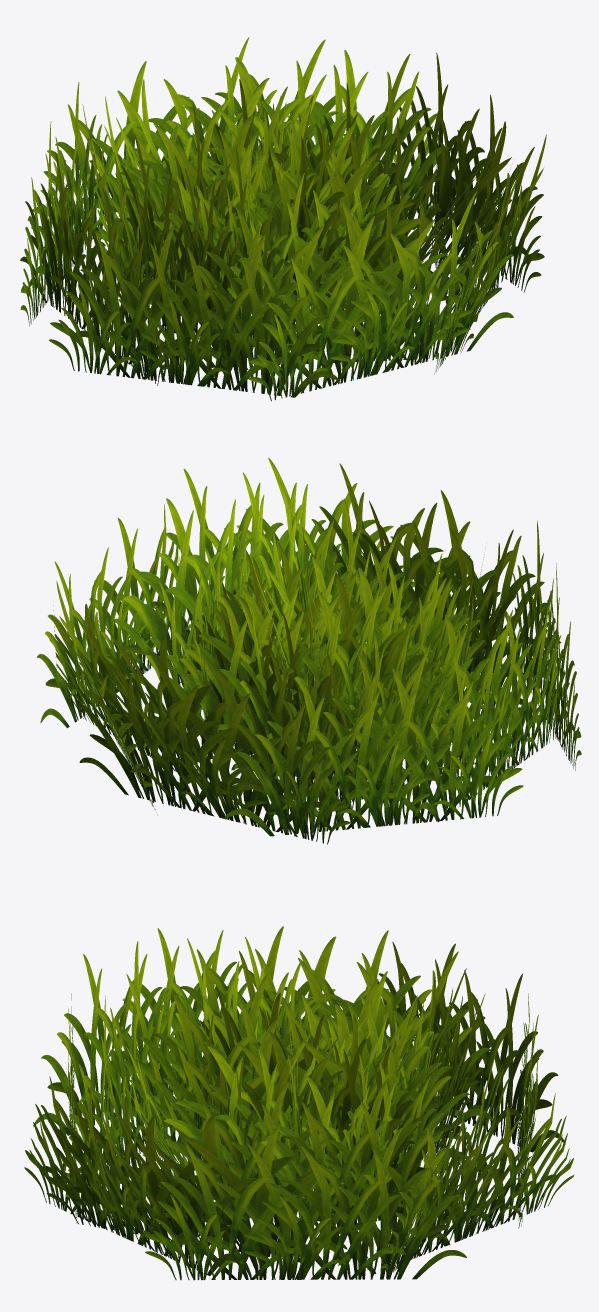
The model's file is grass.glb.
3 views of the same model, one above another, from view 1: azimuth 30°, elevation 25°; view 2: azimuth 150°, elevation 25°; view 3: azimuth 270°, elevation 25° (orthographic). The views are drawn at different scales.
Visible parts, largest first — view 1: patch_big_LOD0, patch_LOD0; view 2: patch_big_LOD0, patch_LOD0; view 3: patch_big_LOD0, patch_LOD0.
Boxes of the visible parts, <box> form: patch_big_LOD0: <box>20,37,546,401</box>; patch_LOD0: <box>86,82,449,365</box>; patch_big_LOD0: <box>37,457,581,844</box>; patch_LOD0: <box>141,538,496,808</box>; patch_big_LOD0: <box>24,926,574,1280</box>; patch_LOD0: <box>115,971,465,1236</box>.
Size of what is drawn, in the model's own units: 1.76 by 0.6696 by 1.72.
Materials: 1 (1 with a texture image).
